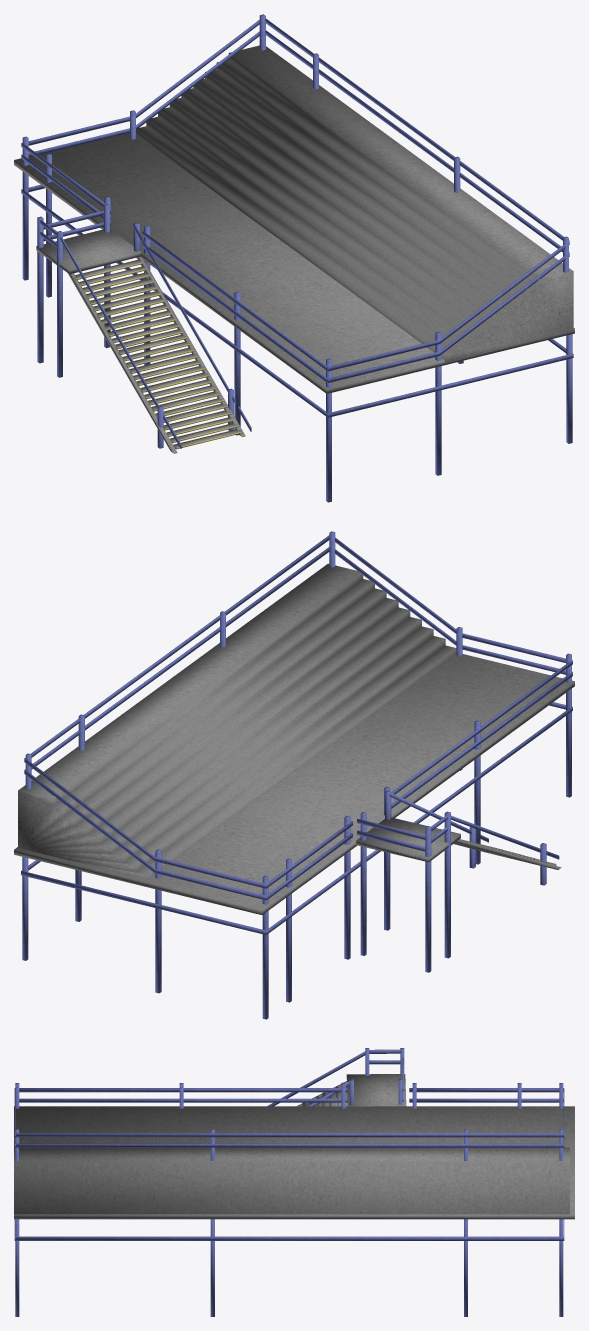
The model's file is stands1.fbx.
The picture shows the model from 3 angles, top to bottom: view 1: azimuth 30°, elevation 25°; view 2: azimuth 150°, elevation 25°; view 3: azimuth 270°, elevation 25°; orthographic projection. The views are drawn at different scales.
Visible parts, largest first — view 1: stands; view 2: stands; view 3: stands.
Boxes of the visible parts, <box> form: stands: <box>14,14,574,502</box>; stands: <box>14,531,574,1019</box>; stands: <box>14,1048,574,1316</box>.
Bounding box in the file's own units: 349 × 214 × 590.
